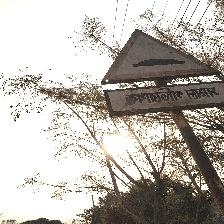Speed-breaker: (101, 29, 224, 118)
